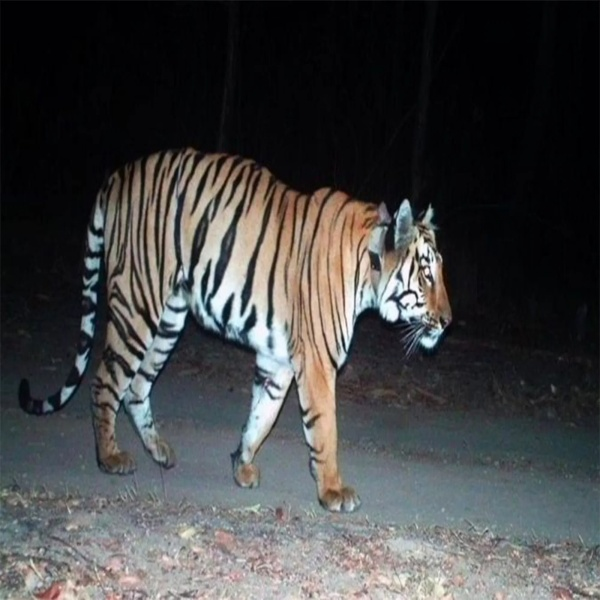Tiger: (16, 145, 459, 517)
